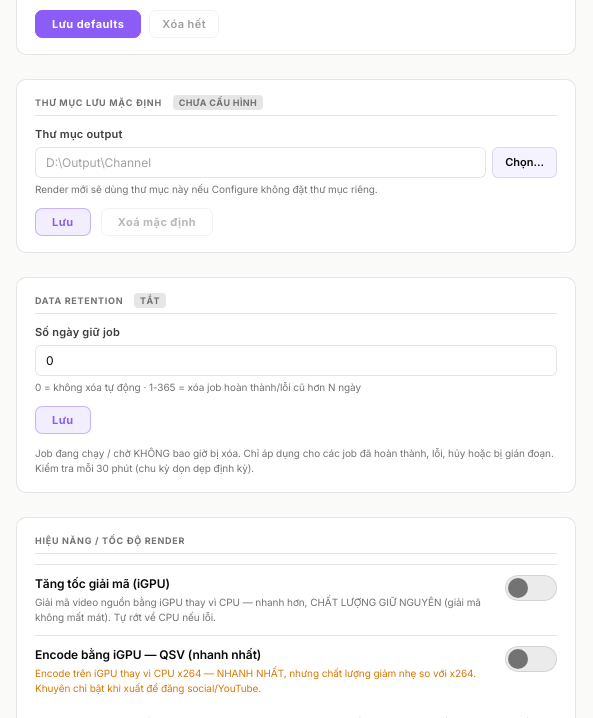
Test case: SettingsScreen — Data Retention form › clamps out-of-range typed input to [0, 365]
(page scrolled)
Replace the text in the number field with test id "dr-job-retention-days" with "999": (296, 360) 35,344 -> 557,376
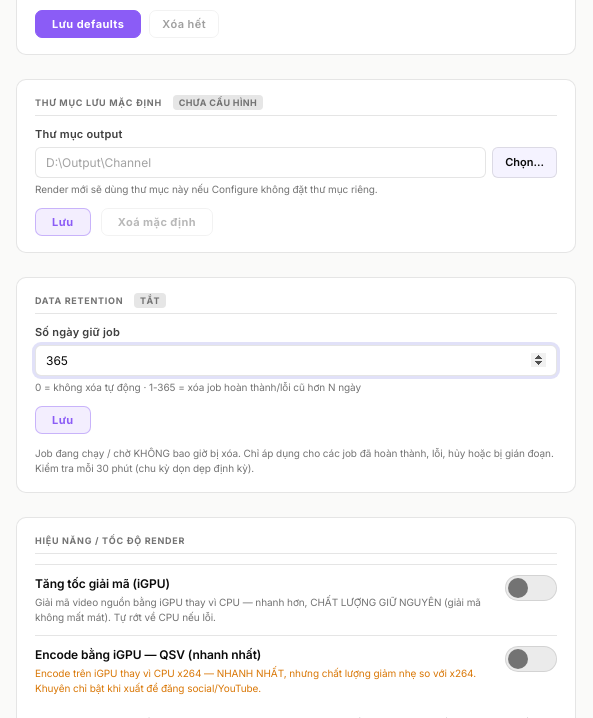
Check: the number field with test id "dr-job-retention-days" holds "365", box 35,344 -> 557,376
